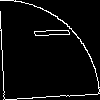I: (25, 25, 70, 41)
